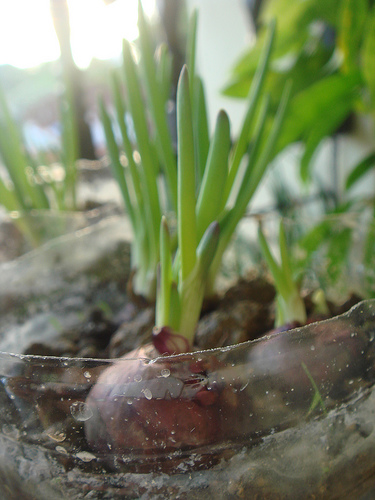onion: (80, 18, 280, 470)
